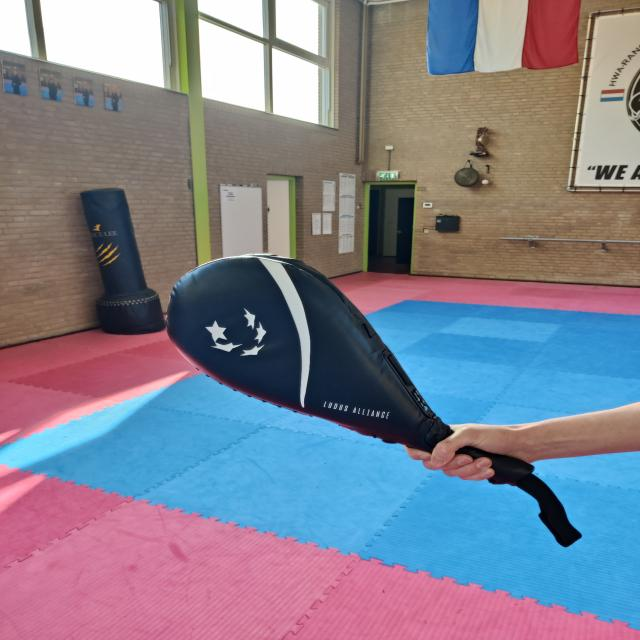paddle: (163, 251, 538, 486)
